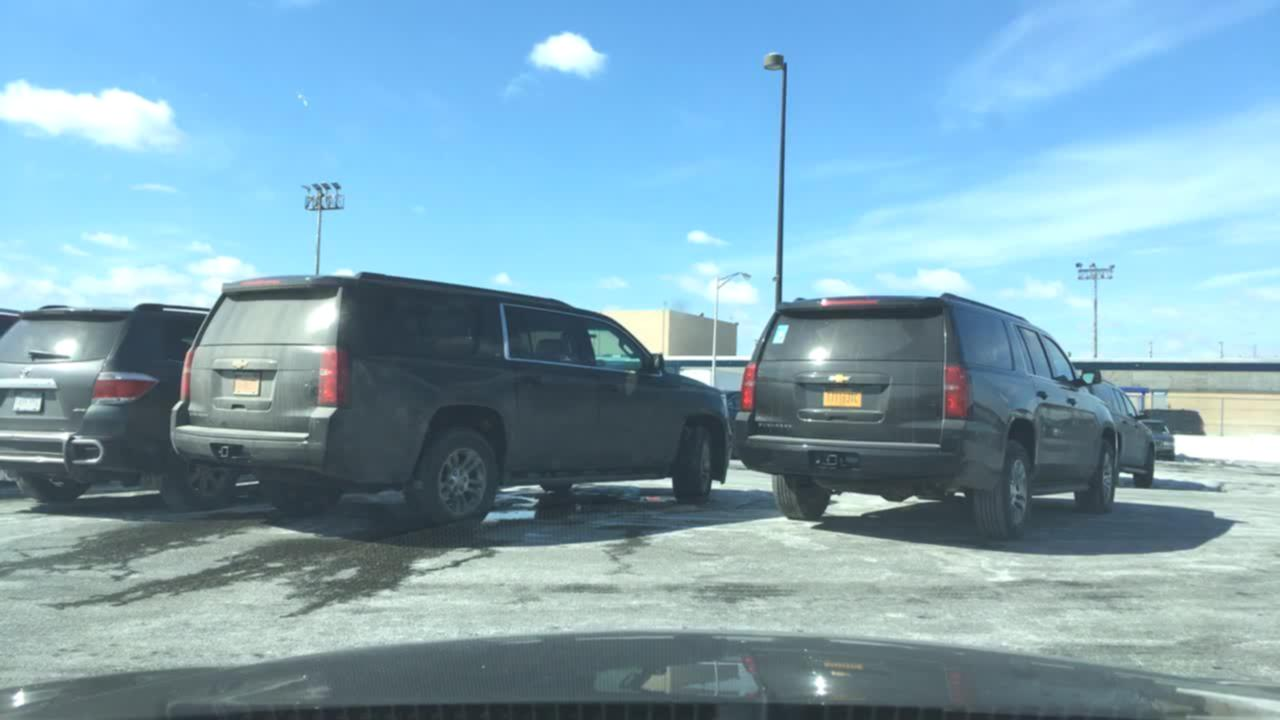chevrolet: (811, 359, 862, 397), (229, 355, 252, 374)
